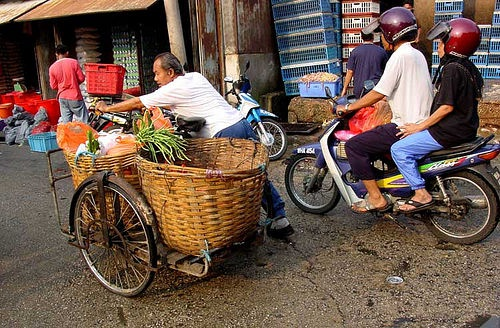non-vehicle: (283, 80, 500, 245), (224, 60, 286, 160)
